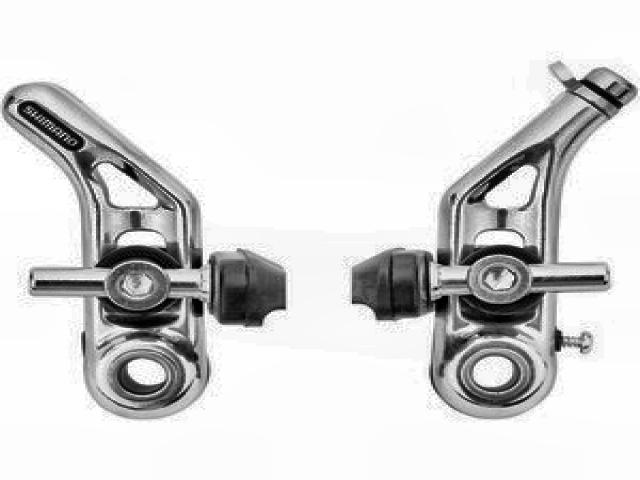rim_brake: (6, 55, 635, 421)
